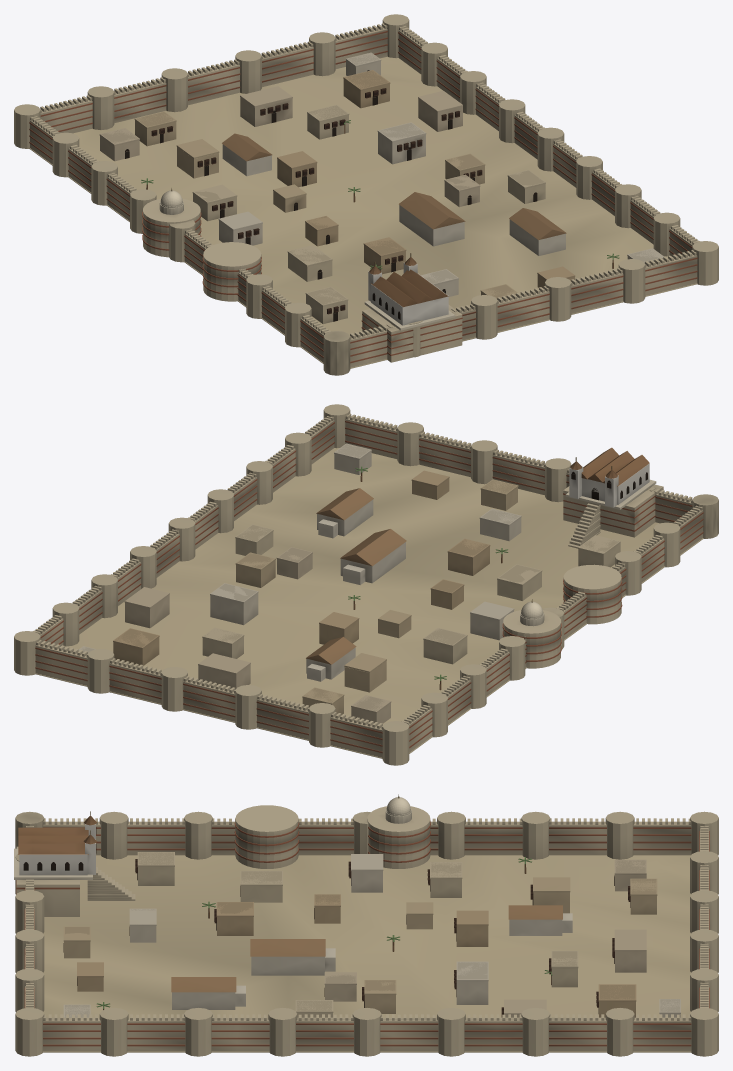
Rendered from babylon.glb.
3 views of the same model, one above another, from view 1: azimuth 30°, elevation 25°; view 2: azimuth 150°, elevation 25°; view 3: azimuth 270°, elevation 25° (orthographic). The views are drawn at different scales.
Parts seen in each view (by area): view 1: p0_ground, p1_walls, p3_churches, p2_towers; view 2: p0_ground, p1_walls, p3_churches, p2_towers; view 3: p0_ground, p1_walls, p3_churches, p2_towers.
Boxes of the visible parts, left/top/right/bottom form: p0_ground: left=29, top=56, right=697, bottom=368; p1_walls: left=14, top=14, right=718, bottom=375; p3_churches: left=99, top=52, right=664, bottom=330; p2_towers: left=142, top=188, right=462, bottom=362; p0_ground: left=35, top=448, right=703, bottom=758; p1_walls: left=14, top=404, right=718, bottom=765; p3_churches: left=78, top=443, right=656, bottom=724; p2_towers: left=502, top=484, right=663, bottom=668; p0_ground: left=43, top=855, right=691, bottom=1052; p1_walls: left=15, top=811, right=718, bottom=1056; p3_churches: left=14, top=811, right=680, bottom=1017; p2_towers: left=16, top=794, right=430, bottom=916.
Size of the model in its own units: 192 by 32.71 by 268.
